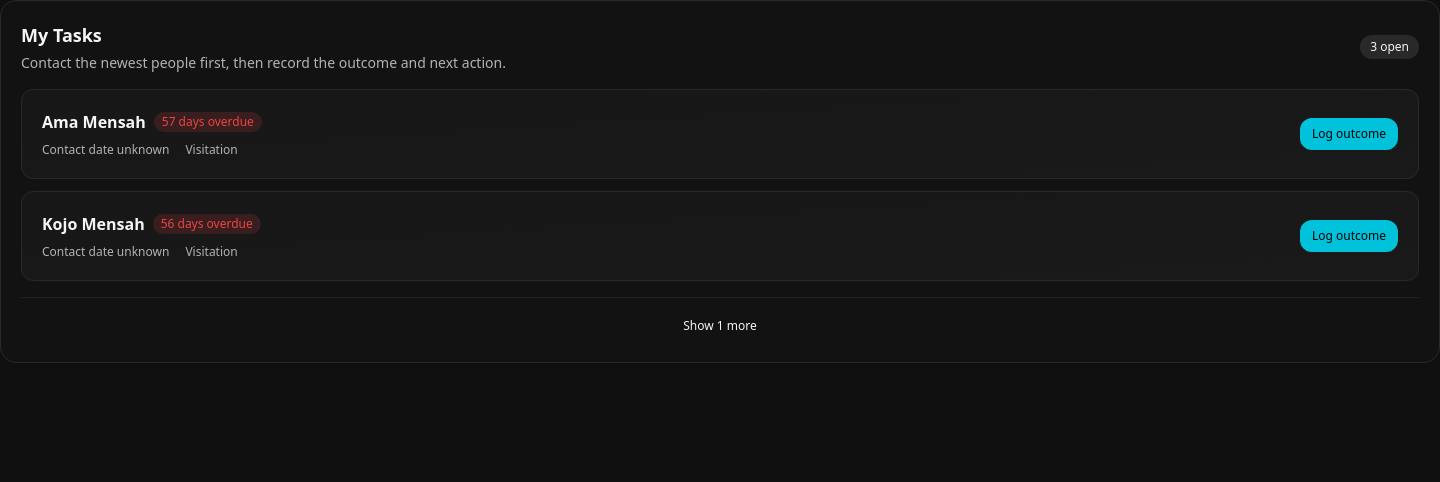
Scenario: TaskQueue › keeps longer task queues collapsed until requested
Expected: the button "Grace Mensah" is not shown
Step 1. Click the button "Show 1 more" → (720,326), box x1=671 y1=310 x2=769 y2=342
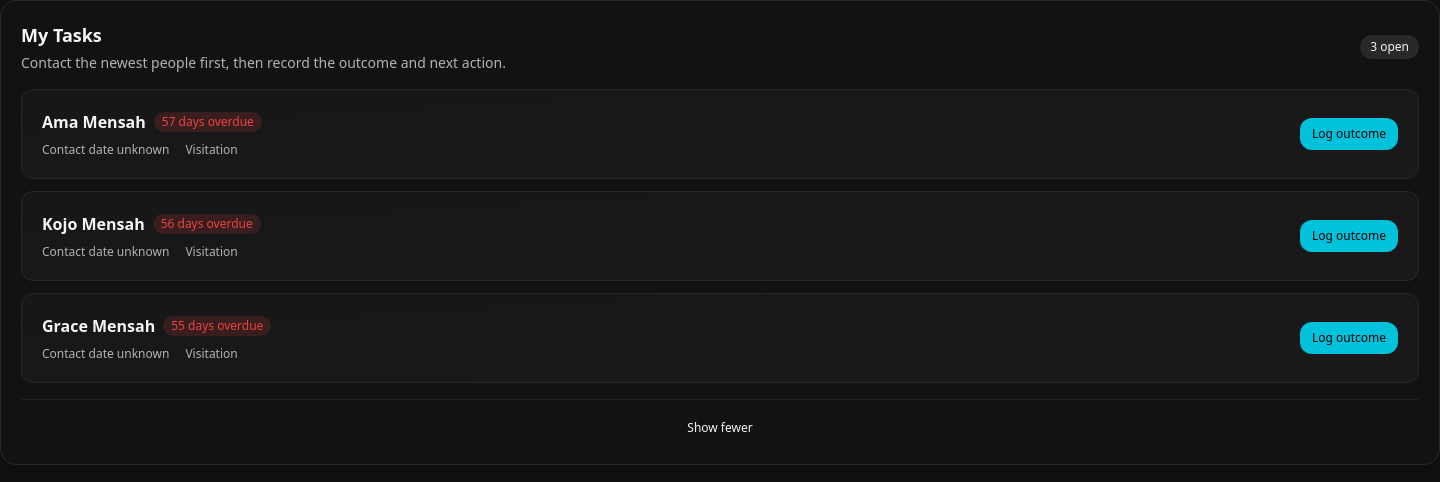
Now the button "Grace Mensah" is shown, box x1=42 y1=314 x2=155 y2=338
